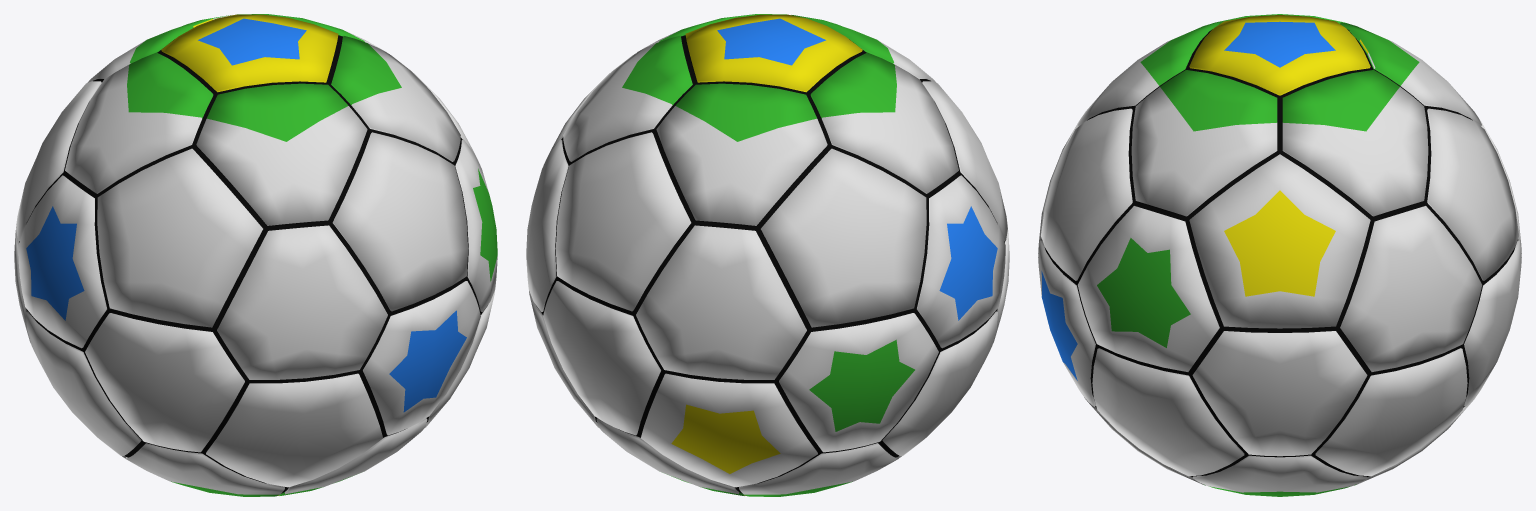
Rendered from Bola Brasil.fbx.
3 views of the same model, side by side, from view 1: azimuth 30°, elevation 25°; view 2: azimuth 150°, elevation 25°; view 3: azimuth 270°, elevation 25° (orthographic).
Visible parts, largest first — view 1: Bola Brasil; view 2: Bola Brasil; view 3: Bola Brasil.
Boxes of the visible parts, left/top/right/bottom form: Bola Brasil: left=14, top=14, right=497, bottom=496; Bola Brasil: left=526, top=14, right=1009, bottom=496; Bola Brasil: left=1038, top=14, right=1521, bottom=496.
Size of the model in its own units: 100 by 100 by 100.
